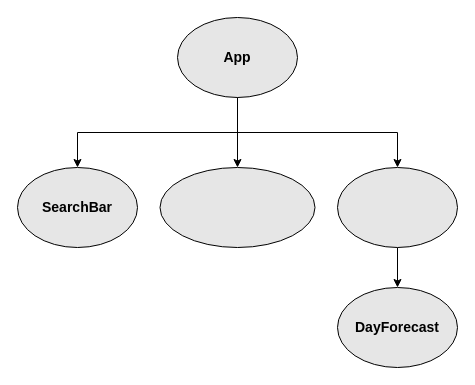
This 475x385 diagram has some shape labels left out. Each missing label, with the centre of its shape:
CurrentConditions: pixel 237 207
DayForecastList: pixel 397 207
